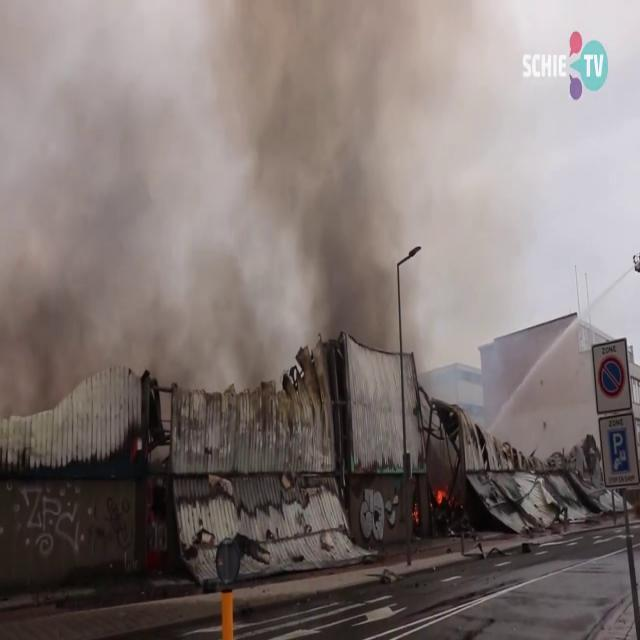Smoke: (175, 7, 459, 427), (0, 85, 182, 474)
